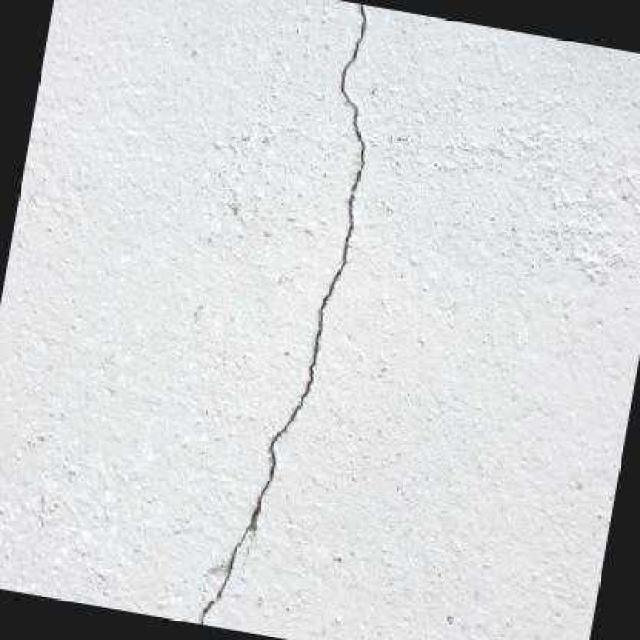D00: (194, 1, 369, 625)
